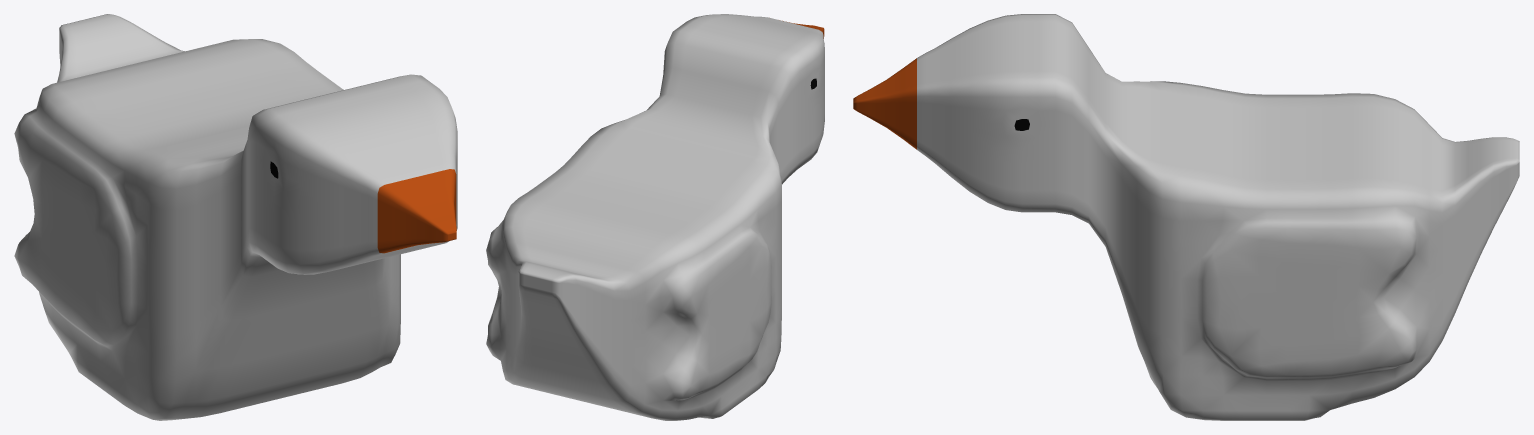
Rendered from Bird.FBX.
3 views of the same model, side by side, from view 1: azimuth 30°, elevation 25°; view 2: azimuth 150°, elevation 25°; view 3: azimuth 270°, elevation 25° (orthographic). The views are drawn at different scales.
Visible parts, largest first — view 1: Bird; view 2: Bird; view 3: Bird.
Part boxes in pixels (left/top/right/bottom): Bird: left=14, top=14, right=457, bottom=420; Bird: left=486, top=14, right=824, bottom=420; Bird: left=853, top=14, right=1519, bottom=420.
Size of the model in its own units: 0.4185 by 0.5386 by 1.
